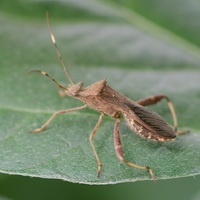insect: (30, 12, 177, 181)
